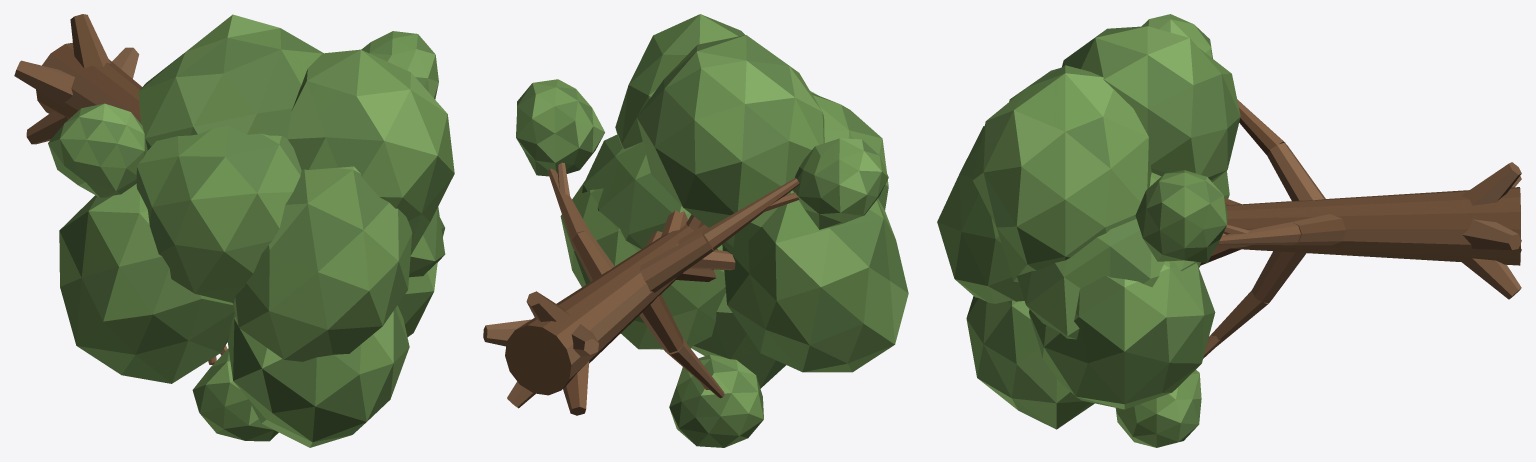
File: k-oak.glb
3 views of the same model, side by side, from view 1: azimuth 30°, elevation 25°; view 2: azimuth 150°, elevation 25°; view 3: azimuth 270°, elevation 25° (orthographic). The views are drawn at different scales.
Parts seen in each view (by area): view 1: Canopy, Offcut_0, Offcut_2, Trunk_0, Trunk_1; view 2: Canopy, Offcut_0, Offcut_2, Trunk_0, Offcut_1, Trunk_1, Canopy_1; view 3: Canopy, Offcut_0, Offcut_2, Offcut_1, Trunk_0, Trunk_1, Canopy_1.
Boxes of the visible parts, bbox=[...] form: Canopy: bbox=[48, 14, 454, 447]; Offcut_0: bbox=[49, 22, 446, 441]; Offcut_2: bbox=[14, 14, 141, 144]; Trunk_0: bbox=[36, 43, 140, 118]; Trunk_1: bbox=[37, 43, 140, 123]; Canopy: bbox=[516, 14, 908, 447]; Offcut_0: bbox=[518, 35, 895, 447]; Offcut_2: bbox=[483, 285, 625, 415]; Trunk_0: bbox=[517, 224, 694, 387]; Offcut_1: bbox=[579, 230, 685, 328]; Trunk_1: bbox=[528, 225, 686, 385]; Canopy_1: bbox=[558, 164, 733, 395]; Canopy: bbox=[937, 19, 1346, 447]; Offcut_0: bbox=[963, 14, 1240, 426]; Offcut_2: bbox=[1389, 162, 1521, 299]; Offcut_1: bbox=[1226, 196, 1396, 258]; Trunk_0: bbox=[1226, 187, 1520, 265]; Trunk_1: bbox=[1226, 187, 1520, 264]; Canopy_1: bbox=[1203, 204, 1267, 358].
Size of the model in its own units: 0.037 by 0.0378 by 0.05.
1 material, 1 textured.
